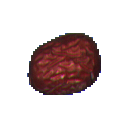gd: (19, 27, 128, 119)
